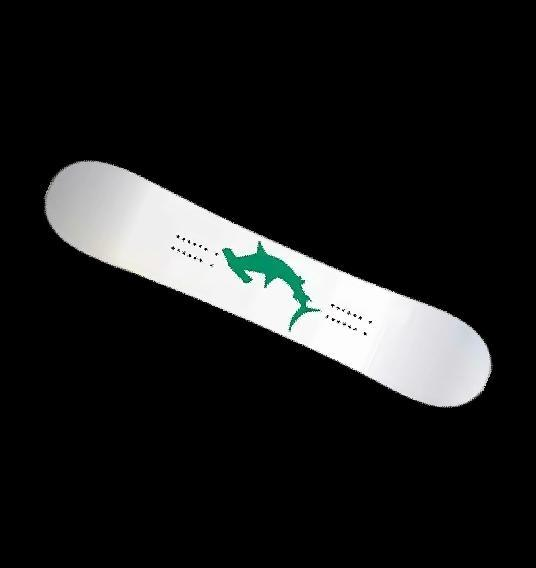Snowboard: (43, 158, 492, 408)
